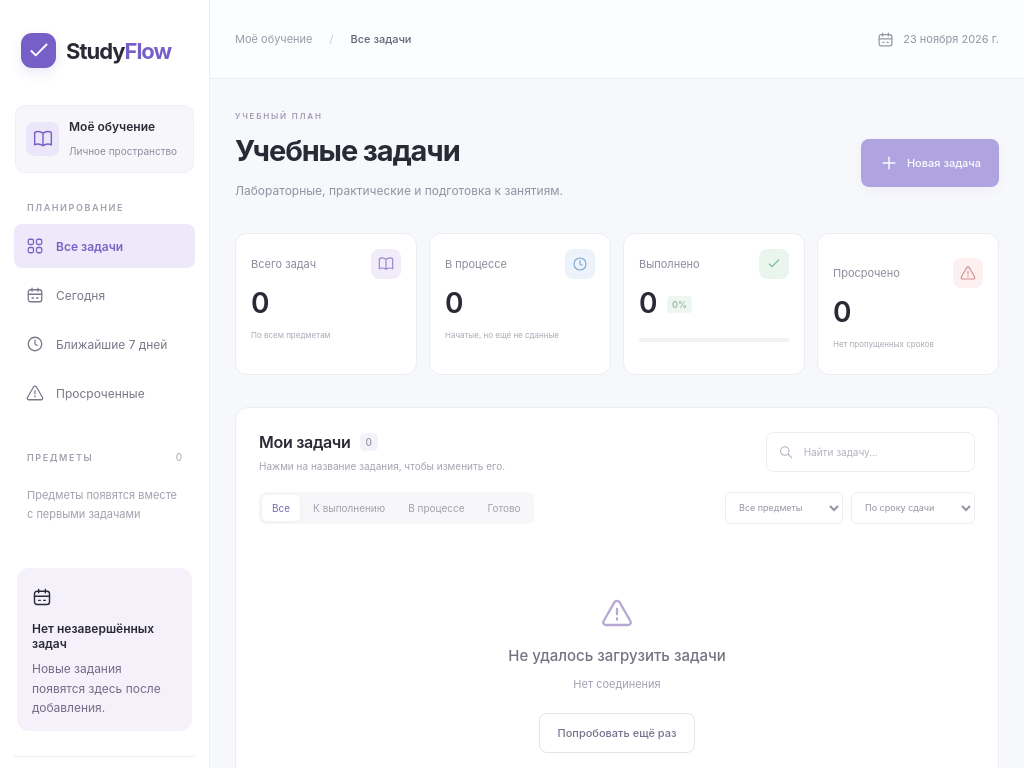
Работа с заданиями › повторяет загрузку после ошибки
The width and height of the screenshot is (1024, 768).
Expected: the heading "Не удалось загрузить задачи" is shown, [508,646,726,665]
Click the button "Попробовать ещё раз": (617, 733) [538,713,695,753]
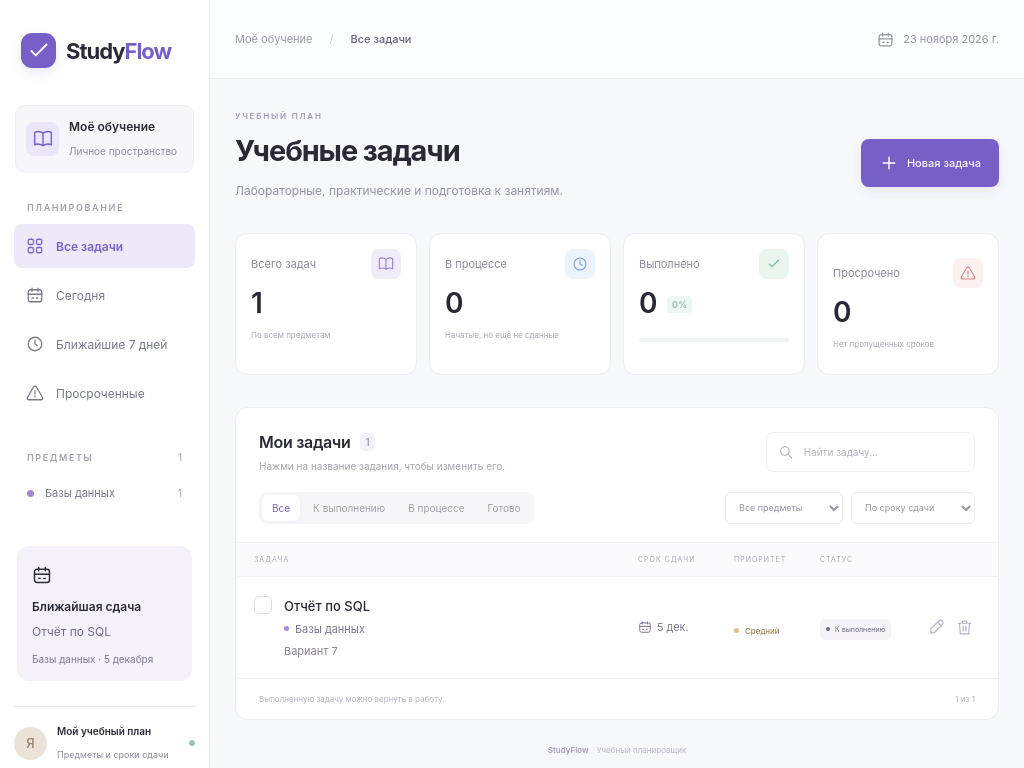
Expected: the button "Отчёт по SQL" is shown, [284,595,370,617]
